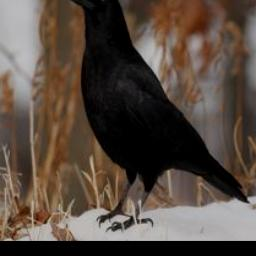Crow: (67, 0, 251, 233)
